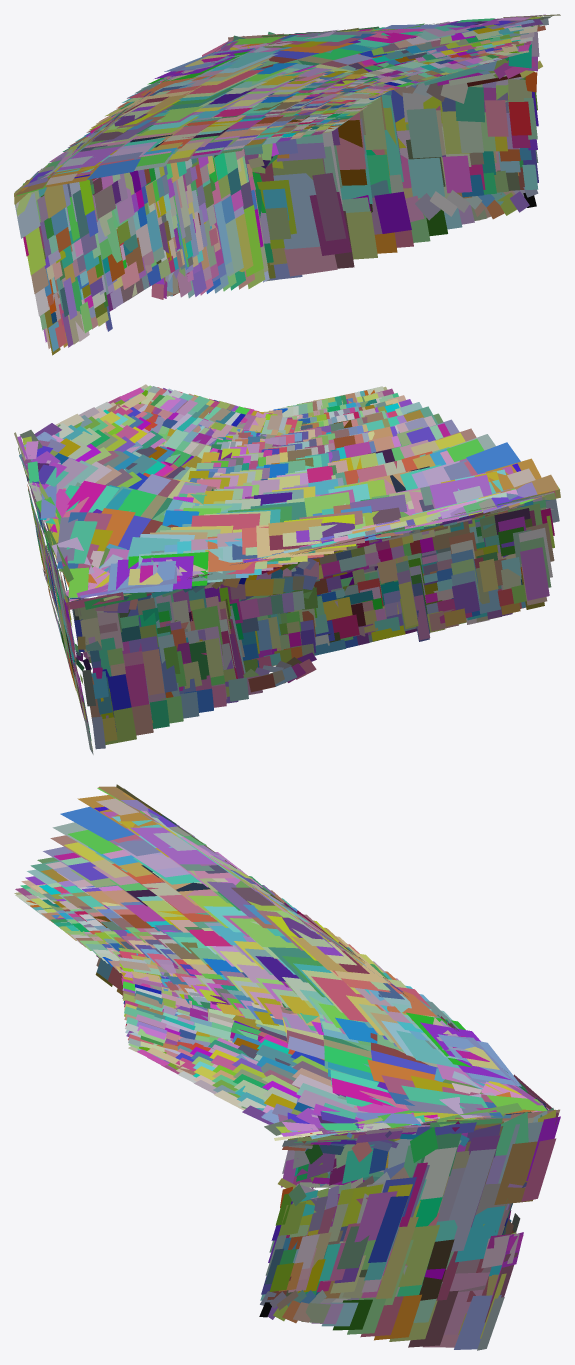
The model's file is planarSplat_rawPrims_normalized_colorPrim.glb.
3 views of the same model, one above another, from view 1: azimuth 30°, elevation 25°; view 2: azimuth 150°, elevation 25°; view 3: azimuth 270°, elevation 25° (orthographic). The views are drawn at different scales.
Visible parts, largest first — view 1: planarSplat_rawPrims_normalized_colorPrim.ply; view 2: planarSplat_rawPrims_normalized_colorPrim.ply; view 3: planarSplat_rawPrims_normalized_colorPrim.ply.
Boxes of the visible parts, left/top/right/bottom form: planarSplat_rawPrims_normalized_colorPrim.ply: left=14, top=14, right=560, bottom=355; planarSplat_rawPrims_normalized_colorPrim.ply: left=14, top=384, right=560, bottom=754; planarSplat_rawPrims_normalized_colorPrim.ply: left=14, top=784, right=560, bottom=1350.
Bounding box in the file's own units: 7.37 × 3.93 × 5.19.
